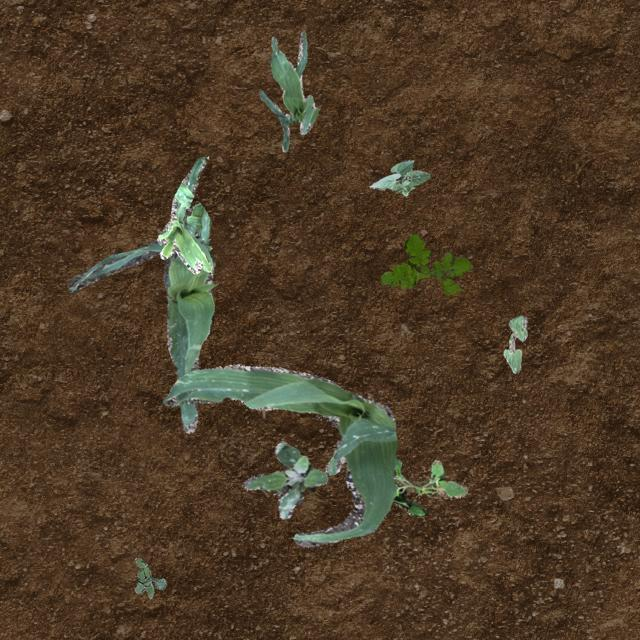crop: (162, 364, 396, 546), (66, 222, 215, 432), (258, 28, 318, 150), (157, 156, 210, 272), (368, 158, 429, 194), (184, 200, 214, 268), (502, 314, 526, 372)
weed: (244, 439, 326, 518), (379, 232, 472, 294), (392, 453, 466, 518), (134, 556, 166, 598)
